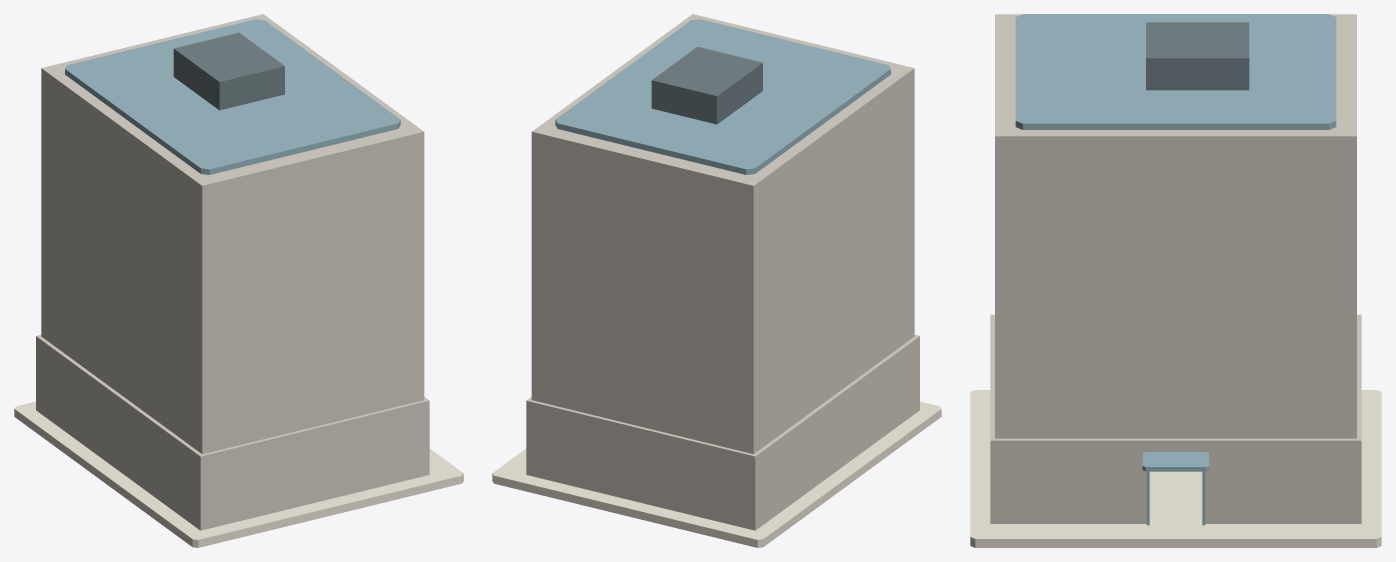
Rendered from Colony_MidRise_Res_A_v4_ShadowProxy.glb.
3 views of the same model, side by side, from view 1: azimuth 30°, elevation 25°; view 2: azimuth 150°, elevation 25°; view 3: azimuth 270°, elevation 25° (orthographic). The views are drawn at different scales.
Parts seen in each view (by area): view 1: Colony_MidRise_Res_A_v4_ShadowProxy / Structure, Colony_MidRise_Res_A_v4_ShadowProxy / Roof, Colony_MidRise_Res_A_v4_ShadowProxy / Foundation; view 2: Colony_MidRise_Res_A_v4_ShadowProxy / Structure, Colony_MidRise_Res_A_v4_ShadowProxy / Roof, Colony_MidRise_Res_A_v4_ShadowProxy / Foundation; view 3: Colony_MidRise_Res_A_v4_ShadowProxy / Structure, Colony_MidRise_Res_A_v4_ShadowProxy / Roof, Colony_MidRise_Res_A_v4_ShadowProxy / Foundation, Colony_MidRise_Res_A_v4_ShadowProxy / Entrance modules.
Part boxes in pixels (bbox=[...]): Colony_MidRise_Res_A_v4_ShadowProxy / Structure: bbox=[36, 14, 429, 530]; Colony_MidRise_Res_A_v4_ShadowProxy / Roof: bbox=[65, 19, 400, 174]; Colony_MidRise_Res_A_v4_ShadowProxy / Foundation: bbox=[14, 401, 463, 547]; Colony_MidRise_Res_A_v4_ShadowProxy / Structure: bbox=[526, 14, 919, 530]; Colony_MidRise_Res_A_v4_ShadowProxy / Roof: bbox=[555, 19, 890, 174]; Colony_MidRise_Res_A_v4_ShadowProxy / Foundation: bbox=[492, 401, 941, 547]; Colony_MidRise_Res_A_v4_ShadowProxy / Structure: bbox=[990, 14, 1361, 523]; Colony_MidRise_Res_A_v4_ShadowProxy / Roof: bbox=[1015, 14, 1336, 129]; Colony_MidRise_Res_A_v4_ShadowProxy / Foundation: bbox=[970, 390, 1381, 547]; Colony_MidRise_Res_A_v4_ShadowProxy / Entrance modules: bbox=[1142, 452, 1209, 542].
Size of the model in its own units: 12 by 16.28 by 14.
